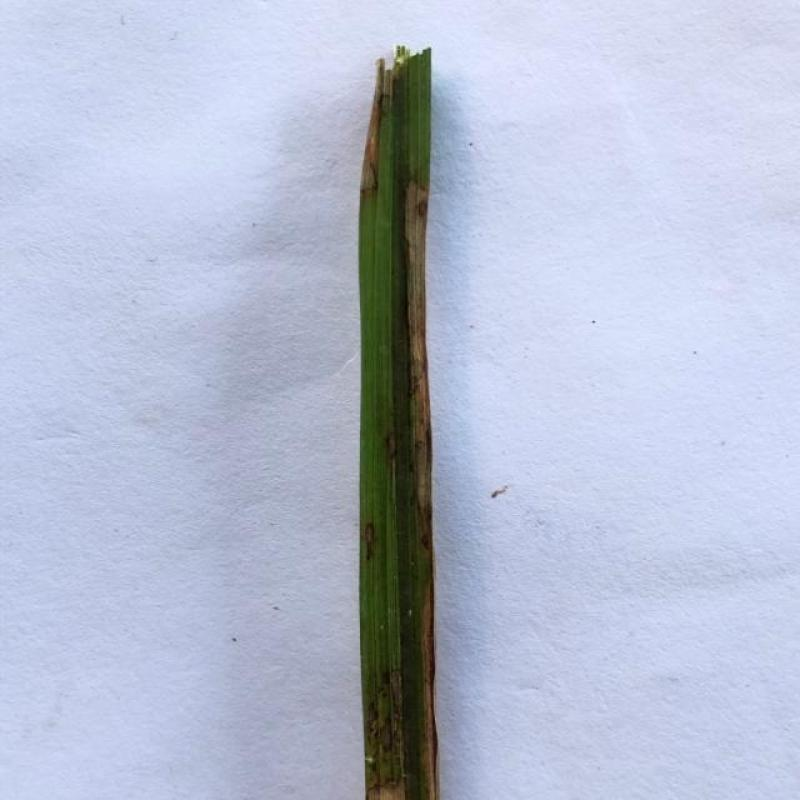Bacterial_Leaf_Blight: (345, 47, 450, 800)
